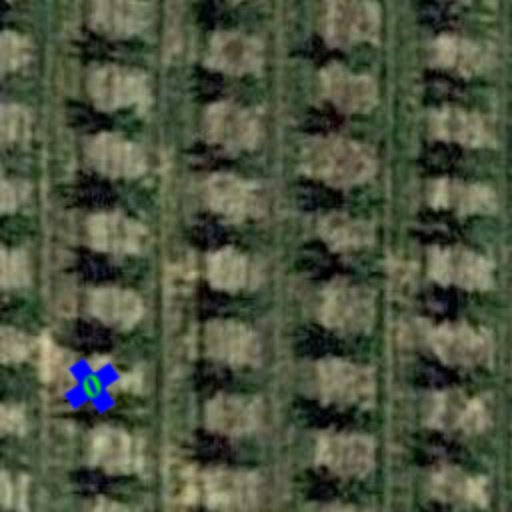cross: (52, 346, 132, 426)
